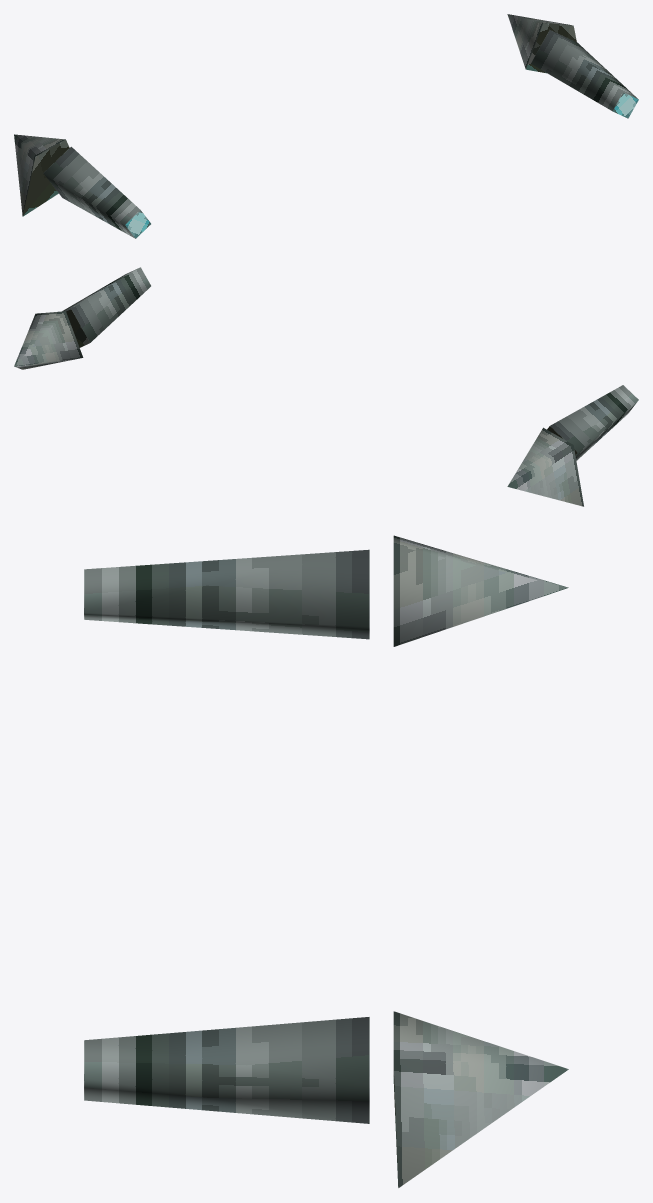
The model's file is black_sun_fighter_heavy_weapon2_s02_l3.fbx.
The picture shows the model from 3 angles, top to bottom: view 1: azimuth 30°, elevation 25°; view 2: azimuth 150°, elevation 25°; view 3: azimuth 270°, elevation 25°; orthographic projection. The views are drawn at different scales.
Visible parts, largest first — view 1: mesh_node; view 2: mesh_node; view 3: mesh_node.
Part boxes in pixels (bbox=[...]): mesh_node: bbox=[14, 14, 638, 238]; mesh_node: bbox=[14, 267, 638, 506]; mesh_node: bbox=[84, 535, 568, 1187].
Size of the model in its own units: 5.03 by 0.5827 by 1.88.
Materials: 1 (1 with a texture image).
